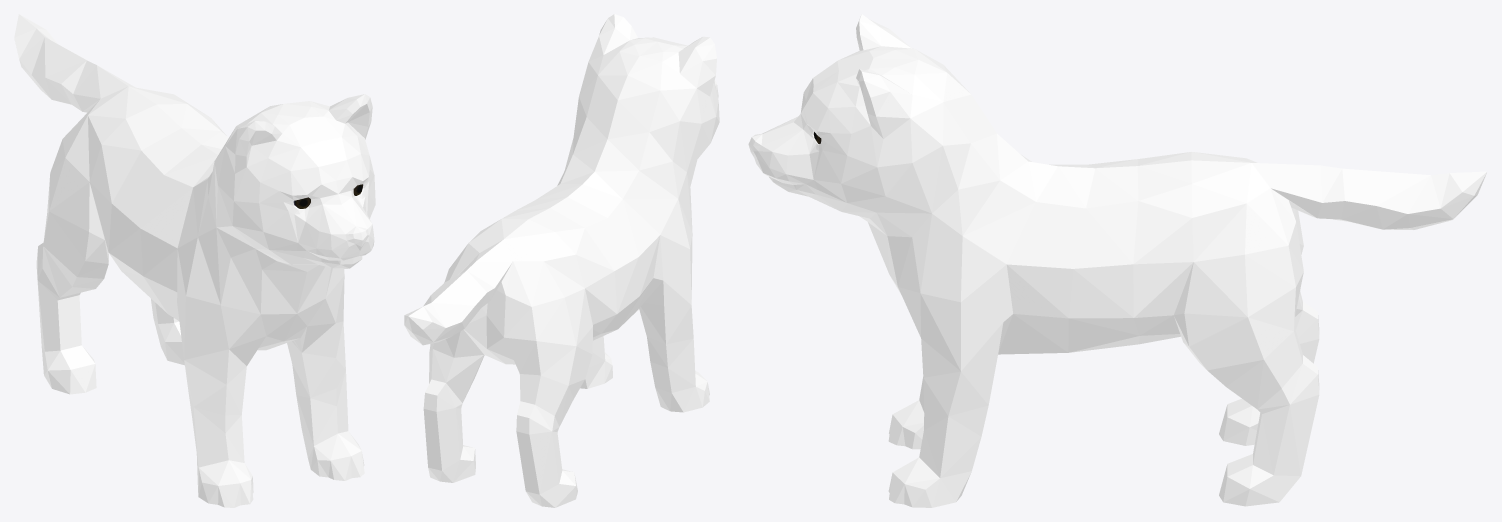
Rendered from shiba-inu.glb.
3 renders of one model, left to right at view 1: azimuth 30°, elevation 25°; view 2: azimuth 150°, elevation 25°; view 3: azimuth 270°, elevation 25°, orthographic. The views are drawn at different scales.
Parts seen in each view (by area): view 1: vsn_mesh_1__mesh_1_.001; view 2: vsn_mesh_1__mesh_1_.001; view 3: vsn_mesh_1__mesh_1_.001.
Part boxes in pixels (x1=…): vsn_mesh_1__mesh_1_.001: x1=14, y1=14, x2=375, y2=507; vsn_mesh_1__mesh_1_.001: x1=404, y1=14, x2=719, y2=507; vsn_mesh_1__mesh_1_.001: x1=748, y1=14, x2=1487, y2=507.
Bounding box in the file's own units: 1.46 × 3.41 × 5.31.
3 materials, 3 textured.
